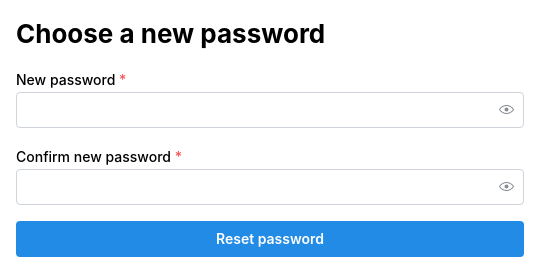
Test: ResetPasswordPage › submits token + newPassword and shows success
In the password field labelled "New password *": [270, 110] box top-left (17, 93), bottom-right (523, 127), type "longenough1"
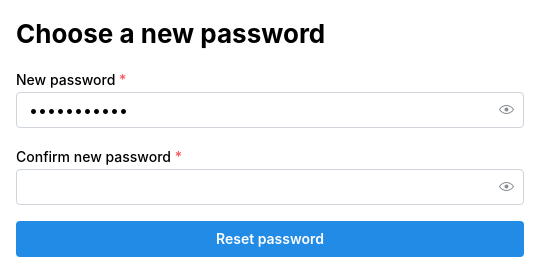
In the password field labelled "Confirm new password *": [270, 187] box top-left (17, 170), bottom-right (523, 204), type "longenough1"
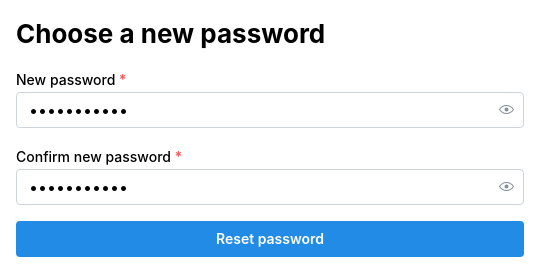
Submit the form "Reset password"
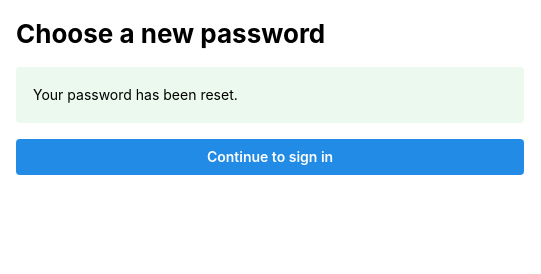
Result: the text "Your password has been reset." is shown at top-left (33, 86), bottom-right (238, 103)
